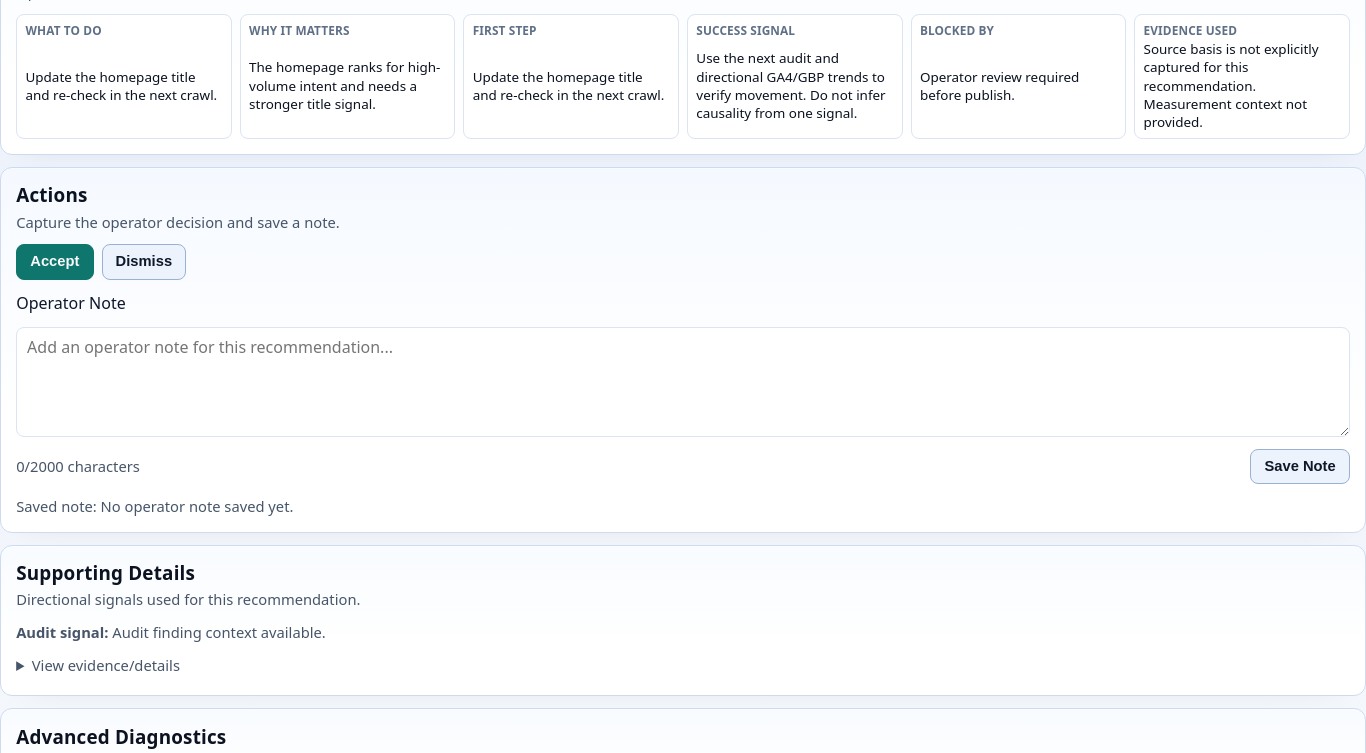
Test case: recommendation detail decision-first layout › renders compact decision-first sections and reconciles optimistic accept saves
The image size is (1366, 753).
(page scrolled)
Check: the text "What to do" is shown, box [26, 22, 102, 38]
Check: the text "Why it matters" is shown, box [249, 22, 350, 38]
Type "Ship this next sprint" into the text box labelled "Operator Note" at [683, 382], box [16, 327, 1350, 437]
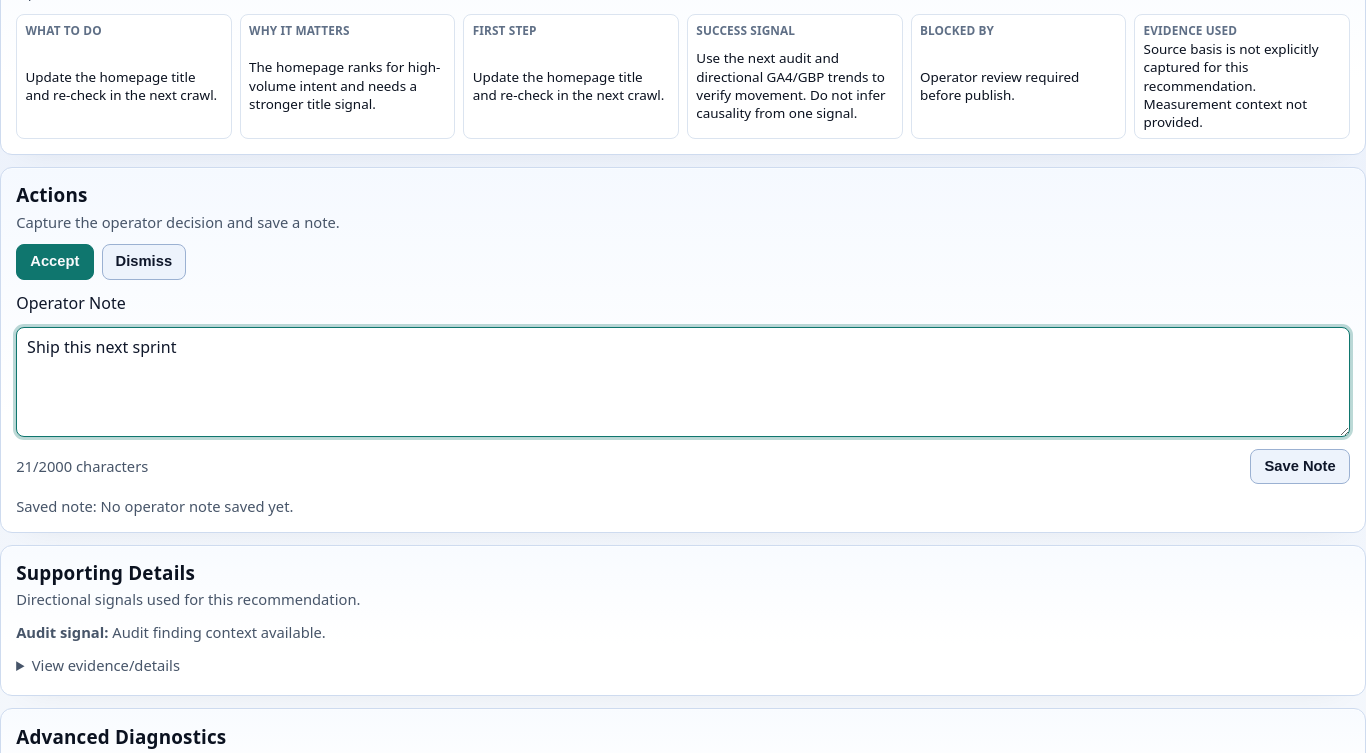
Click the button "Accept" at [55, 262], box [16, 244, 94, 280]
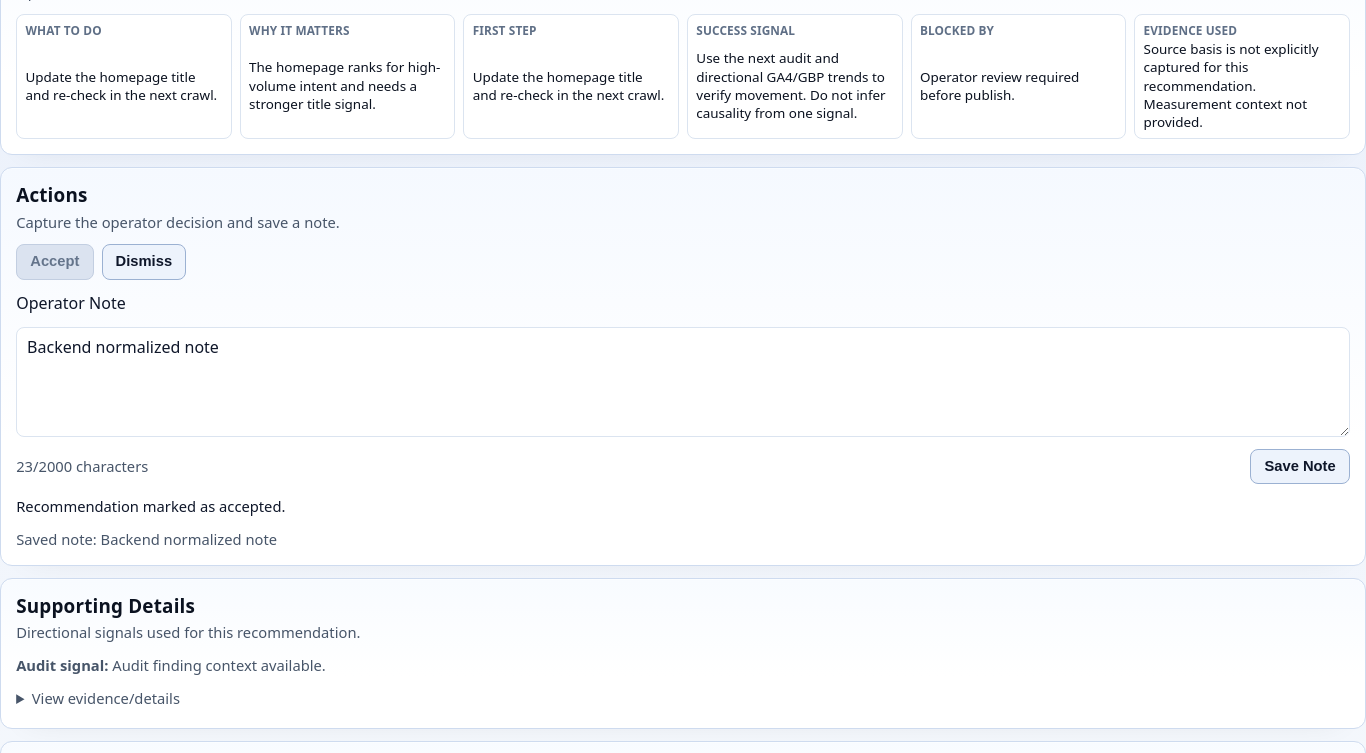
Check: the text "Recommendation marked as accepted." is shown, box [16, 496, 285, 516]
Check: the text box showing "Backend normalized note" is shown, box [16, 327, 1350, 437]
Check: the text with test id "recommendation-detail-saved-note" reads "Saved note: Backend normalized note", box [16, 529, 277, 549]
